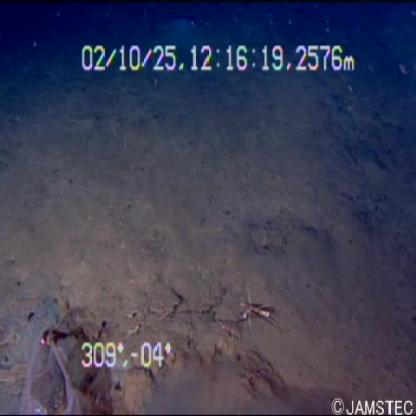Rác: (18, 306, 98, 416)
